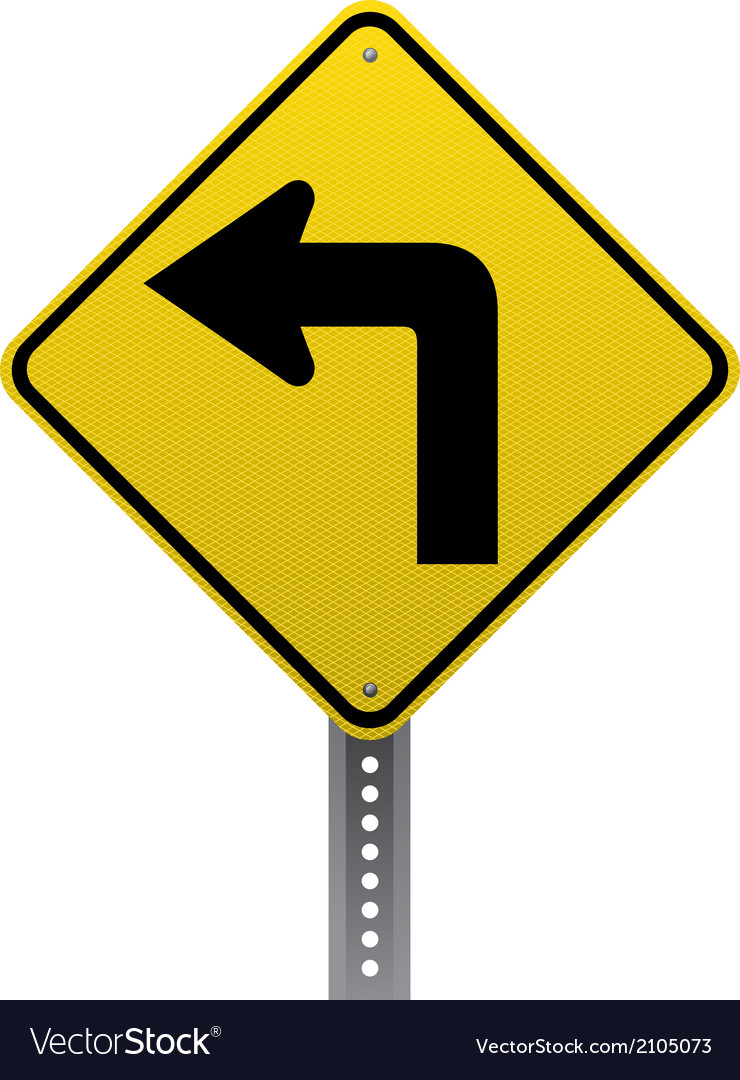left: (1, 1, 736, 747)
